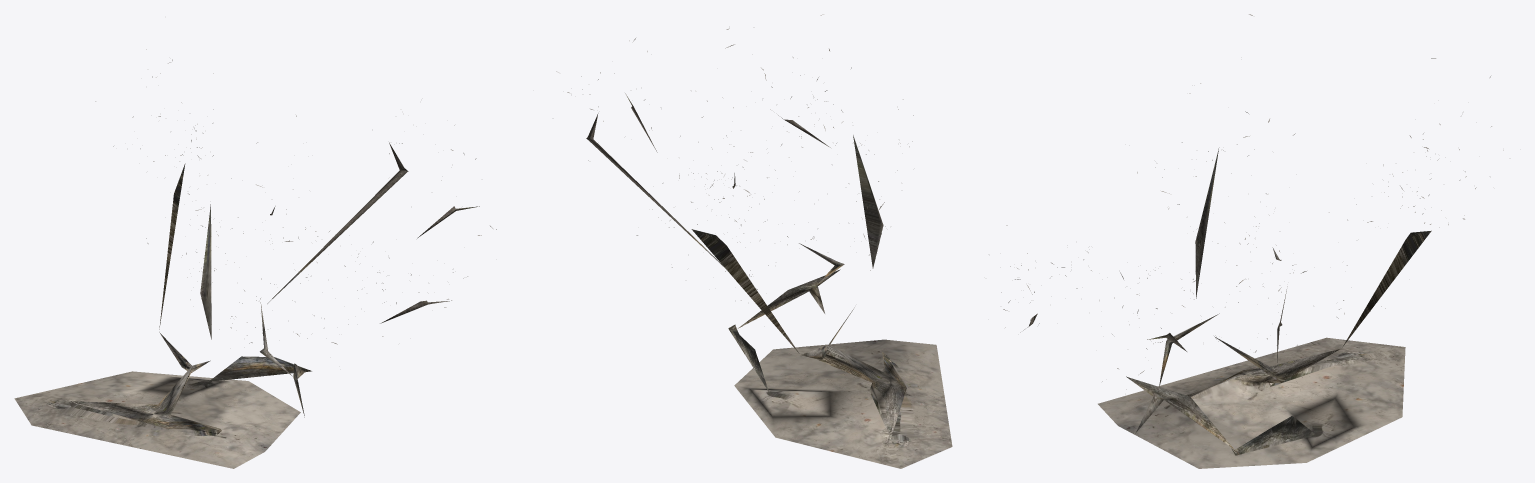
The model's file is island_tree_03.glb.
3 views of the same model, side by side, from view 1: azimuth 30°, elevation 25°; view 2: azimuth 150°, elevation 25°; view 3: azimuth 270°, elevation 25° (orthographic). The views are drawn at different scales.
Parts seen in each view (by area): view 1: island_tree_03_LOD0; view 2: island_tree_03_LOD0; view 3: island_tree_03_LOD0.
Boxes of the visible parts, x1,y1,x2,y2 form: island_tree_03_LOD0: [14, 49, 496, 468]; island_tree_03_LOD0: [556, 14, 952, 468]; island_tree_03_LOD0: [1001, 14, 1503, 468].
Size of the model in its own units: 2.92 by 2.34 by 2.75.
2 materials, 2 textured.
